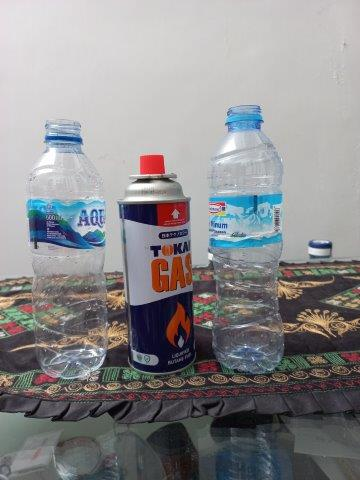botolplastik: (25, 119, 108, 378), (209, 104, 284, 372)
